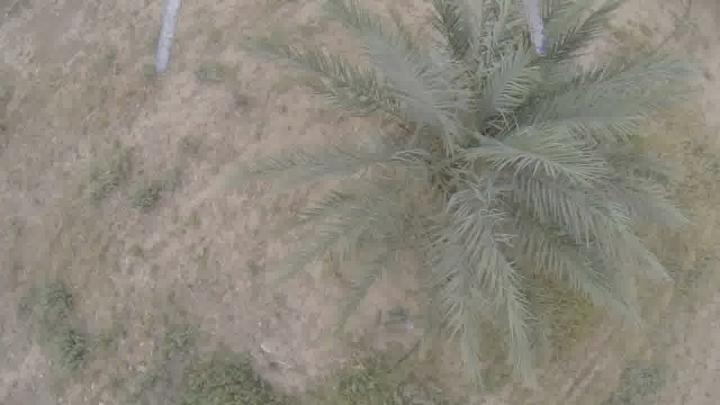Date-Palm-Crown: (378, 28, 602, 274)
